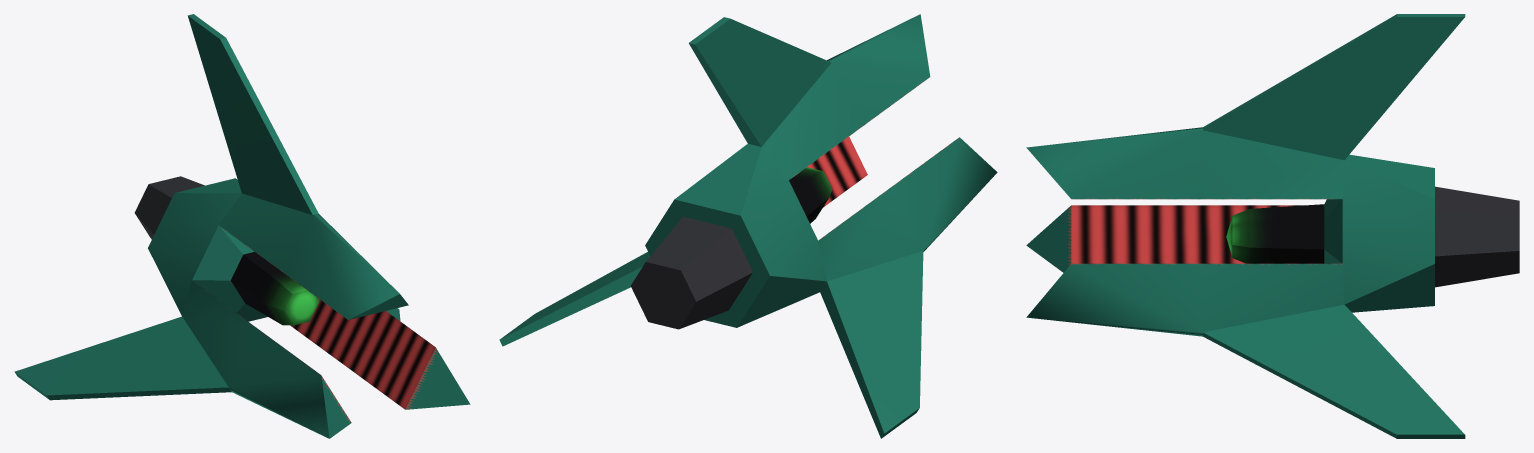
The model's file is MoveEnemy_Model.fbx.
3 renders of one model, left to right at view 1: azimuth 30°, elevation 25°; view 2: azimuth 150°, elevation 25°; view 3: azimuth 270°, elevation 25°, orthographic. The views are drawn at different scales.
Visible parts, largest first — view 1: pCylinder7; view 2: pCylinder7; view 3: pCylinder7.
Part boxes in pixels (box(x1,y1,x2,y2)): pCylinder7: box(14, 14, 470, 438); pCylinder7: box(499, 14, 997, 438); pCylinder7: box(1026, 14, 1519, 438).
Size of the model in its own units: 32.18 by 27.86 by 37.22.
